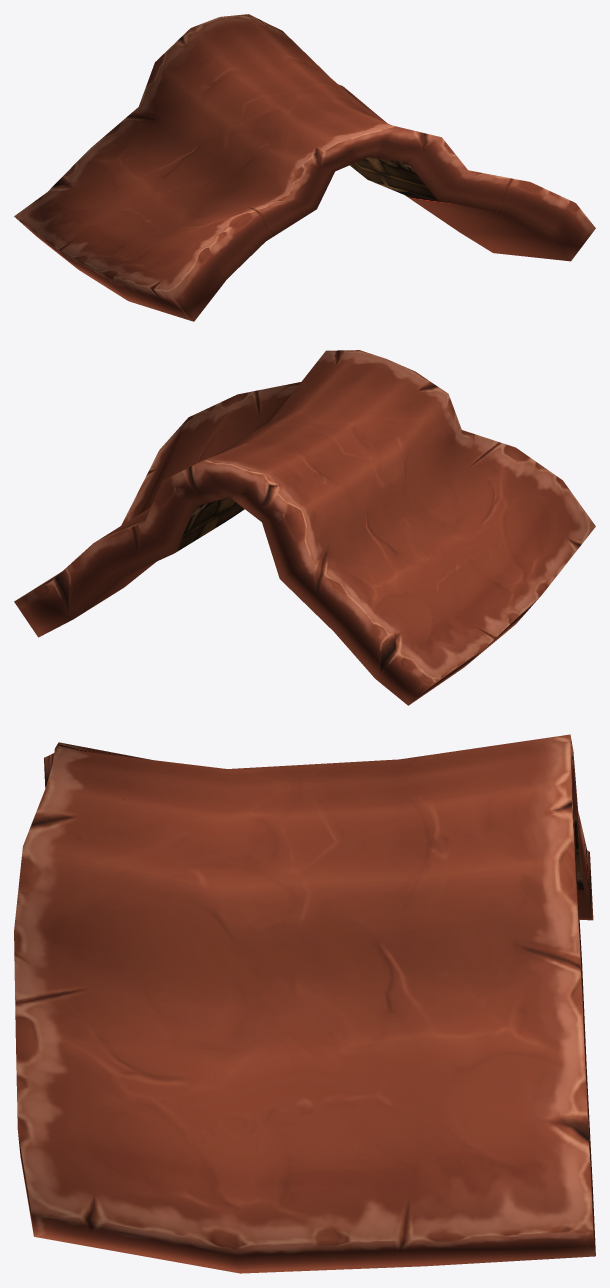
The model's file is roof_ridge2.fbx.
3 views of the same model, one above another, from view 1: azimuth 30°, elevation 25°; view 2: azimuth 150°, elevation 25°; view 3: azimuth 270°, elevation 25° (orthographic). The views are drawn at different scales.
Visible parts, largest first — view 1: roof_ridge2; view 2: roof_ridge2; view 3: roof_ridge2.
Boxes of the visible parts, box(x1,y1,x2,y2) form: roof_ridge2: box(14, 14, 595, 321); roof_ridge2: box(14, 350, 595, 705); roof_ridge2: box(14, 734, 595, 1273).
Size of the model in its own units: 89.92 by 42.31 by 60.51.
